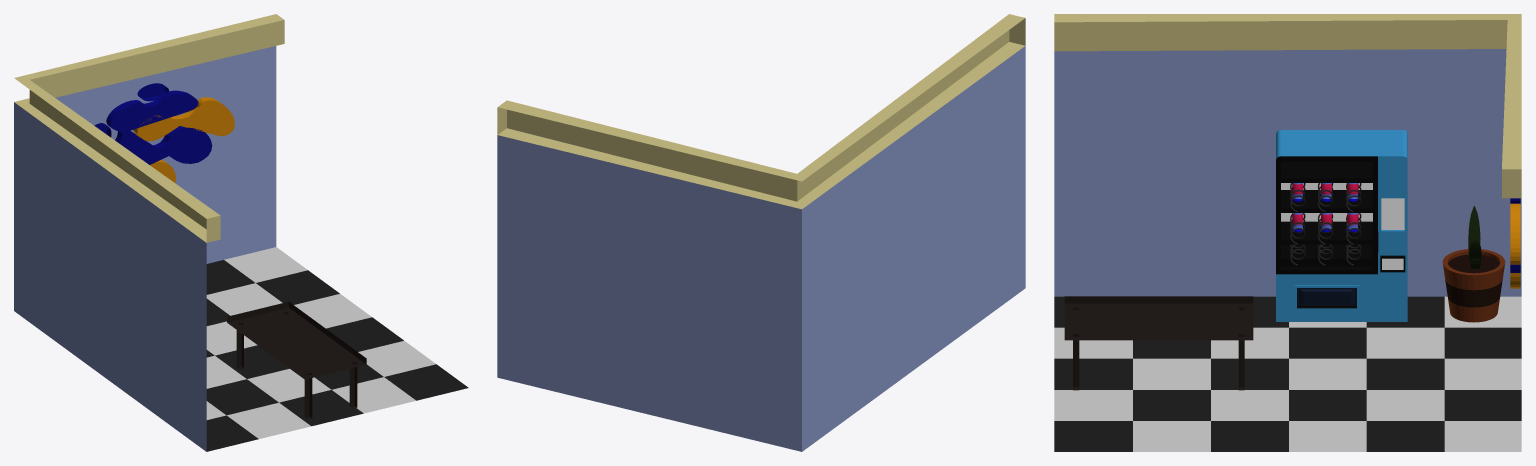
File: Allanim0020.obj
3 views of the same model, side by side, from view 1: azimuth 30°, elevation 25°; view 2: azimuth 150°, elevation 25°; view 3: azimuth 270°, elevation 25° (orthographic). The views are drawn at different scales.
Parts seen in each view (by area): view 1: ruangan_Cube.003, meja_Cube.004, logo.001_Circle.019, logo_Circle.006, logo.005_Circle.023; view 2: ruangan_Cube.003; view 3: ruangan_Cube.003, vending_machine_Cube.001, meja_Cube.004, pot_bunga_Cylinder, per_second\_Spiral.010, Plane.007, logo_Circle.006.
Boxes of the visible parts, box(x1,y1,x2,y2) form: ruangan_Cube.003: box(14, 14, 468, 451); meja_Cube.004: box(227, 301, 366, 419); logo.001_Circle.019: box(115, 126, 212, 164); logo_Circle.006: box(133, 97, 234, 141); logo.005_Circle.023: box(106, 90, 198, 133); ruangan_Cube.003: box(497, 14, 1025, 451); ruangan_Cube.003: box(1054, 14, 1521, 451); vending_machine_Cube.001: box(1276, 130, 1407, 321); meja_Cube.004: box(1064, 296, 1253, 390); pot_bunga_Cylinder: box(1442, 249, 1505, 322); per_second\_Spiral.010: box(1290, 183, 1361, 265); Plane.007: box(1468, 206, 1481, 268); logo_Circle.006: box(1510, 203, 1520, 264).
Bounding box in the file's own units: 11.73 × 9.95 × 14.9.
